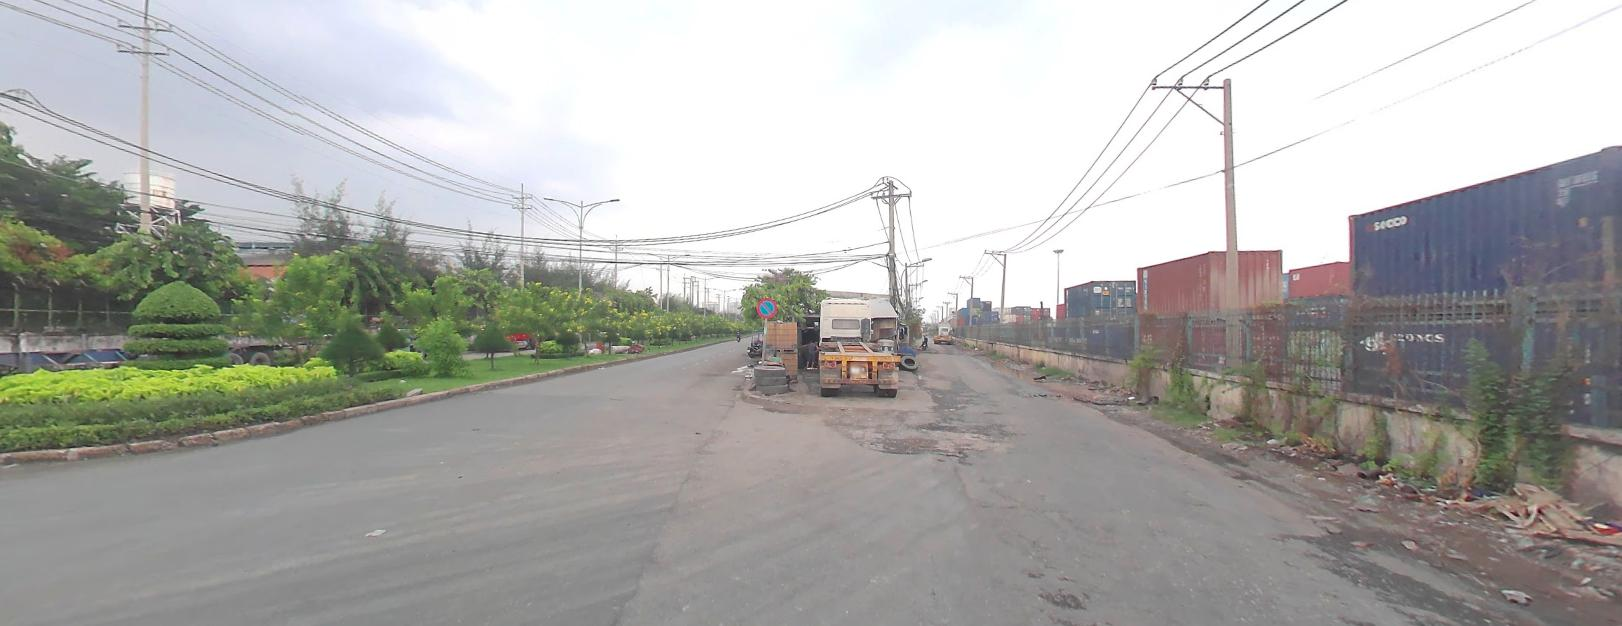Cam dung va do: (756, 295, 777, 316)
